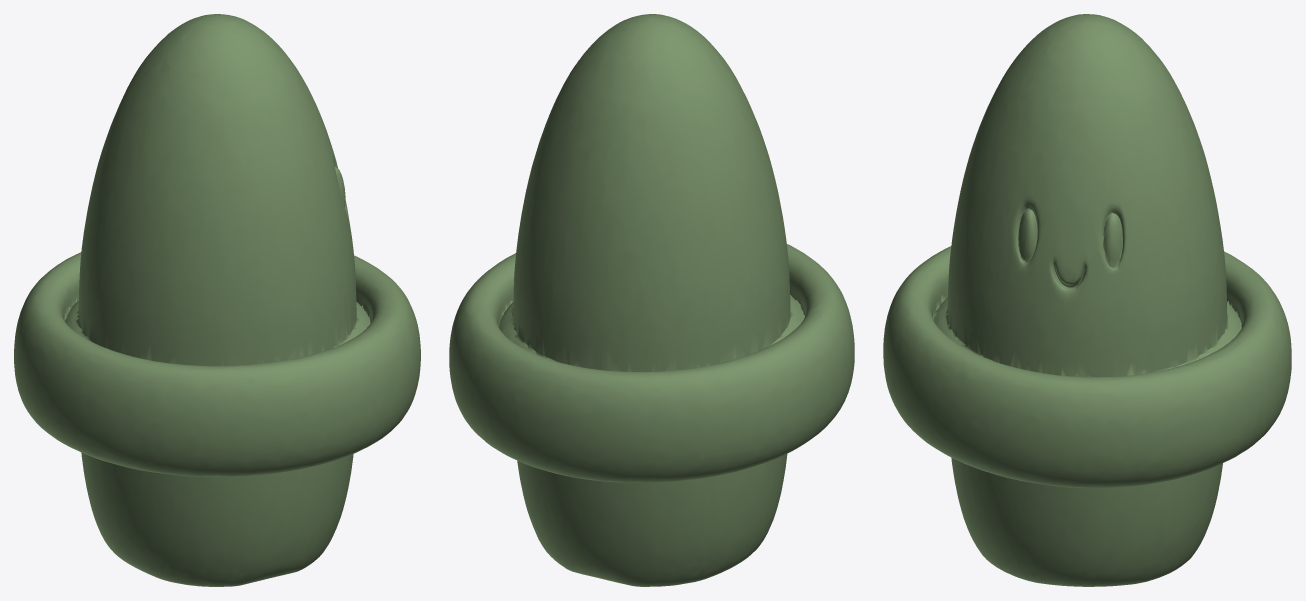
File: smiling-saturn.glb
3 views of the same model, side by side, from view 1: azimuth 30°, elevation 25°; view 2: azimuth 150°, elevation 25°; view 3: azimuth 270°, elevation 25° (orthographic).
Parts seen in each view (by area): view 1: tripo_printable_source; view 2: tripo_printable_source; view 3: tripo_printable_source.
Part boxes in pixels (x1,y1,x2,y2): tripo_printable_source: (14, 14, 420, 586); tripo_printable_source: (449, 14, 854, 586); tripo_printable_source: (883, 14, 1291, 586).
Size of the model in its own units: 69.97 by 100 by 70.
